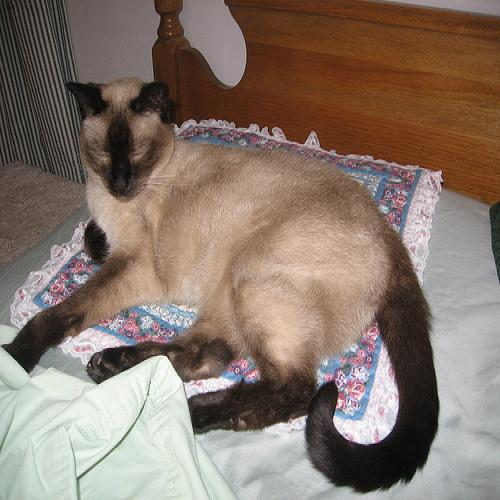siamese: (66, 48, 182, 215)
